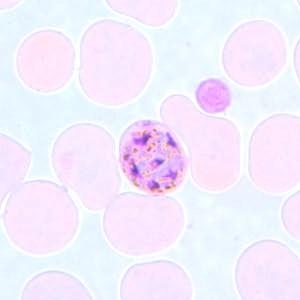Infected: (119, 118, 191, 194)
Uninfected: (159, 93, 242, 190), (78, 19, 152, 105), (52, 122, 118, 210), (102, 191, 183, 257), (3, 181, 78, 251), (221, 18, 287, 86), (247, 110, 300, 193), (15, 29, 77, 91), (238, 239, 300, 300), (120, 260, 192, 300)
